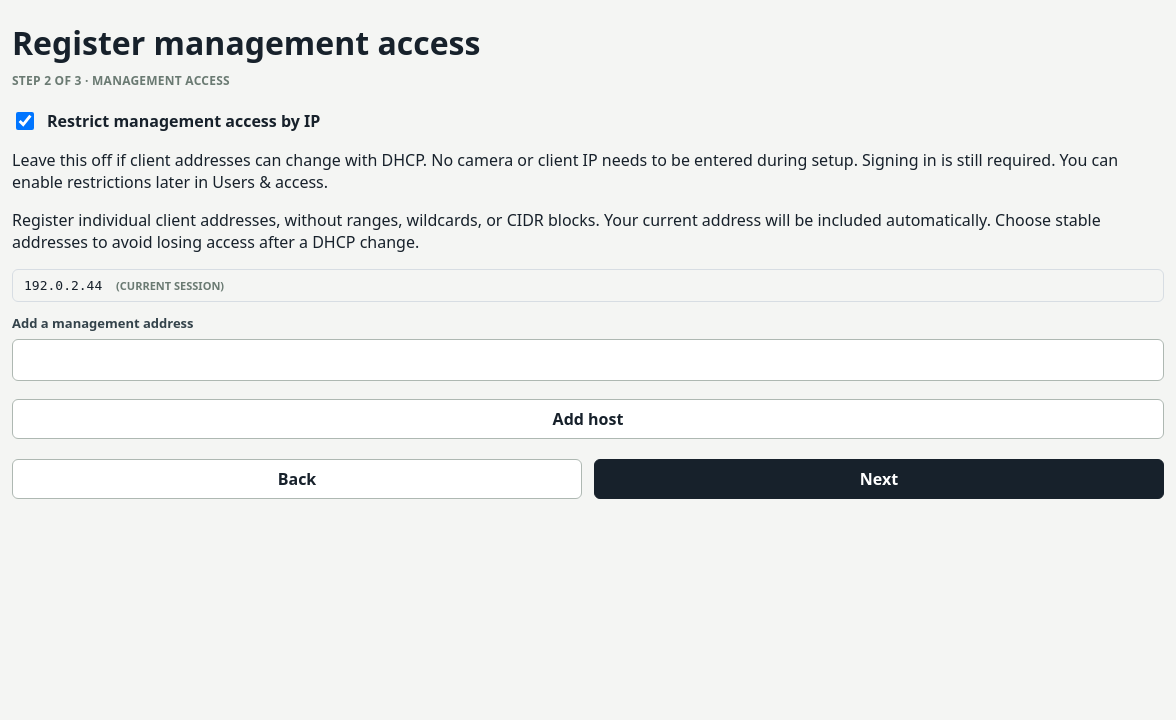
Test: SetupIpStep › rejects 192.168.10.2~253 (range) with a visible reason
Step 1. Type "192.168.10.2~253" into the field labelled "Add a management address" → x=588, y=360, box [12,339,1164,381]
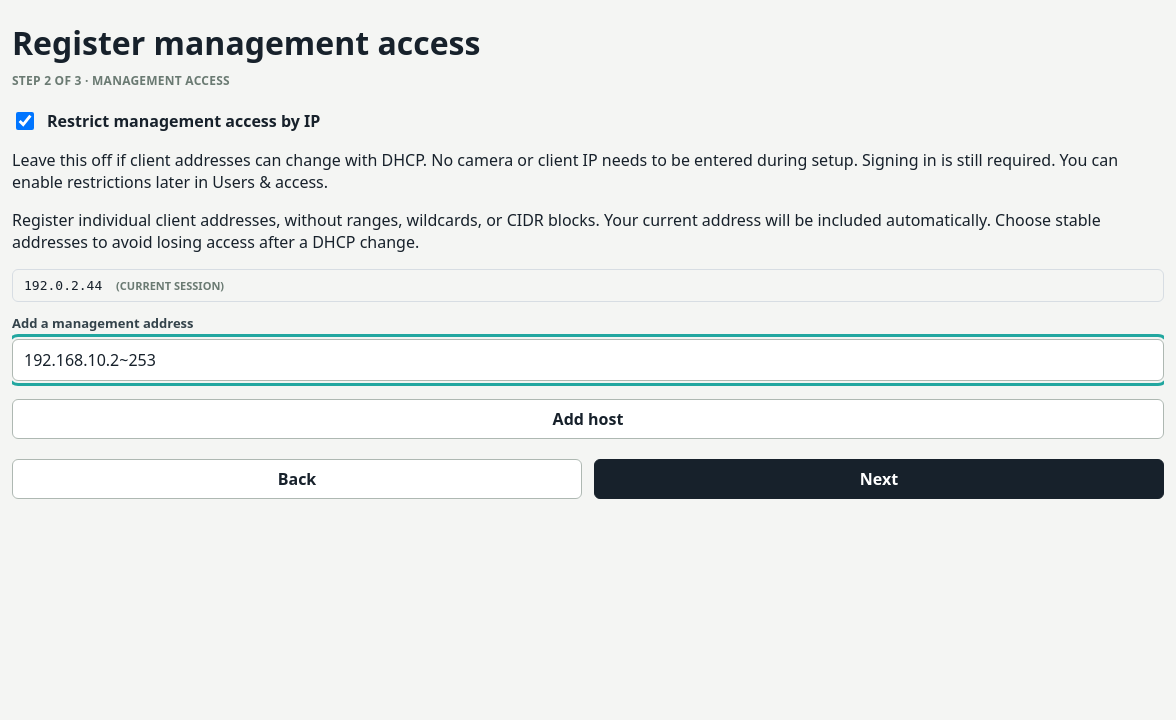
Step 2. Click the button "Add host" → x=588, y=419, box [12,399,1164,439]
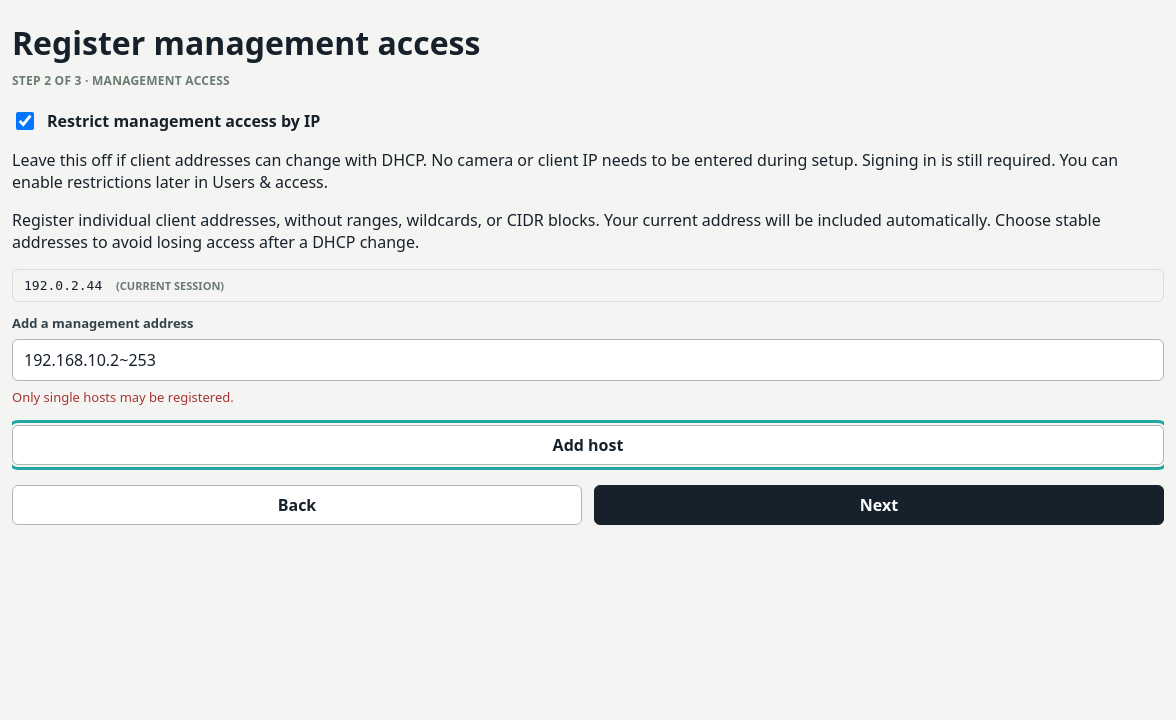
Expected: the text "Only single hosts may be registered." is shown, [12,388,234,406]
